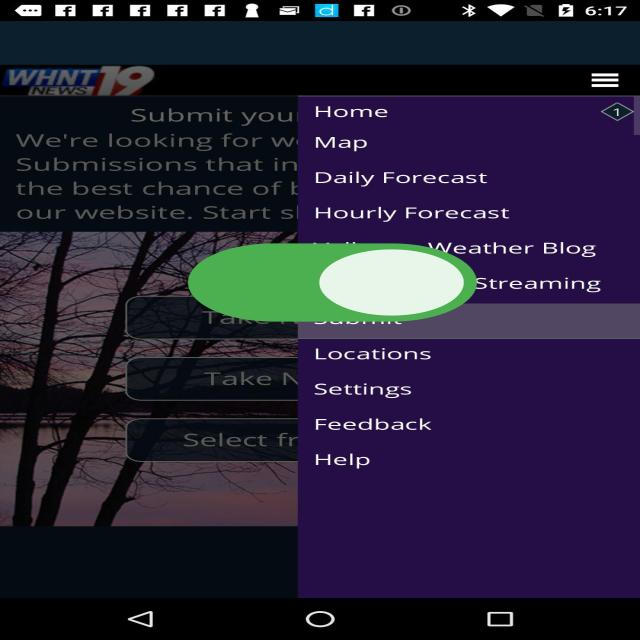social proof: (175, 213, 490, 358)
